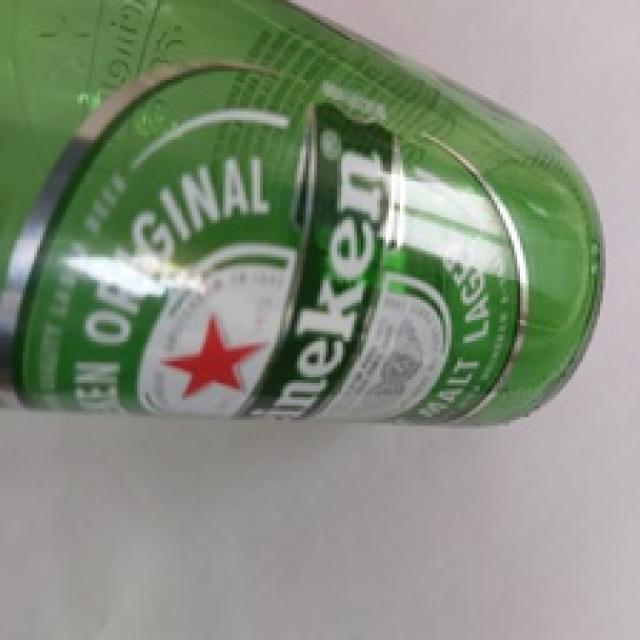Glass: (0, 0, 608, 427)
